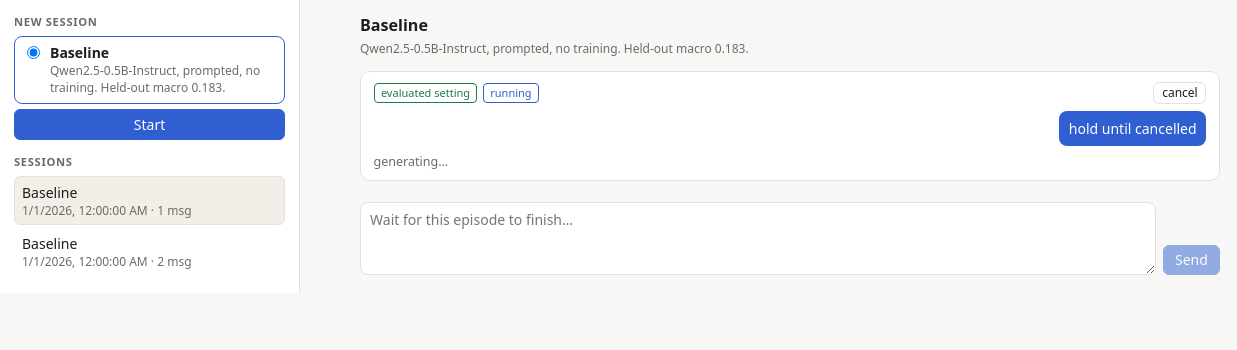
Test: cancel › asks the middle layer to stop the episode
The width and height of the screenshot is (1237, 350).
Click the button "cancel".
click(1180, 93)  # box [1154,82,1206,104]
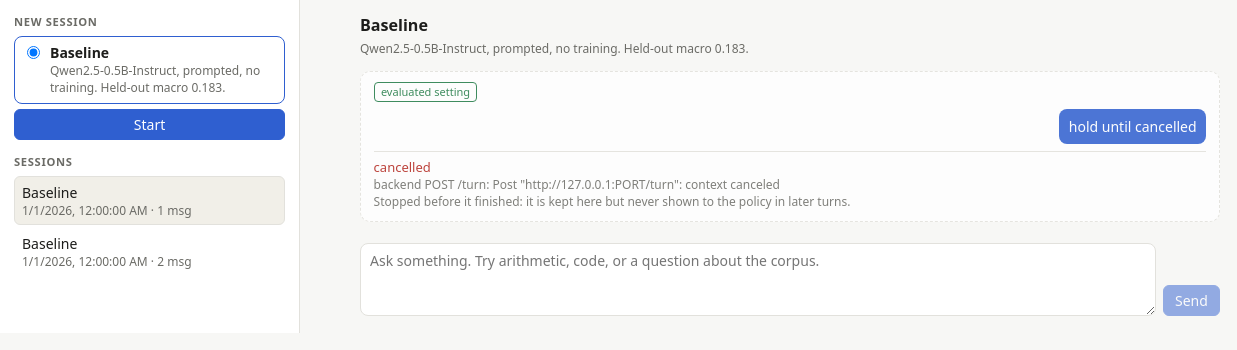
Expected: the text "cancelled" is shown, [374,158,431,176]
Expected: the text "Stopped before it finished" is shown, [374,193,520,210]
